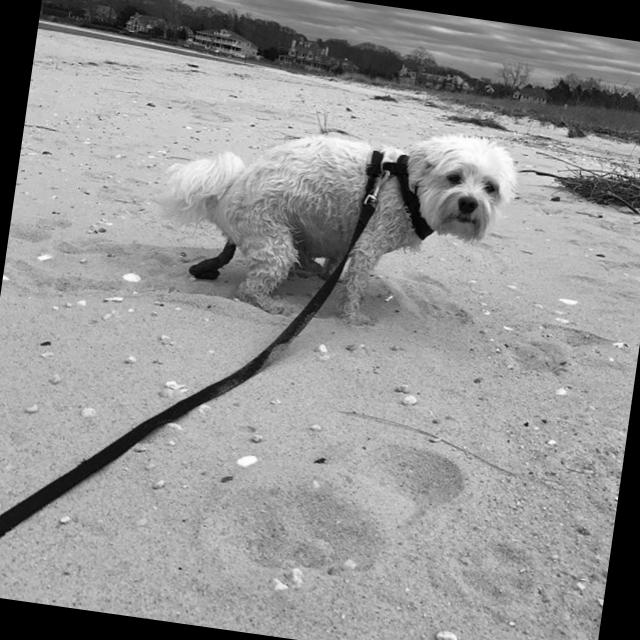squatting: (139, 88, 529, 352)
